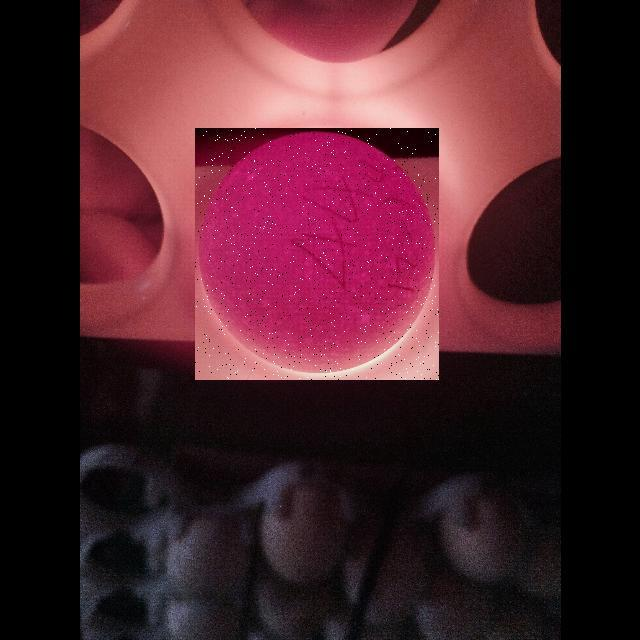Infertile: (195, 128, 439, 380)
